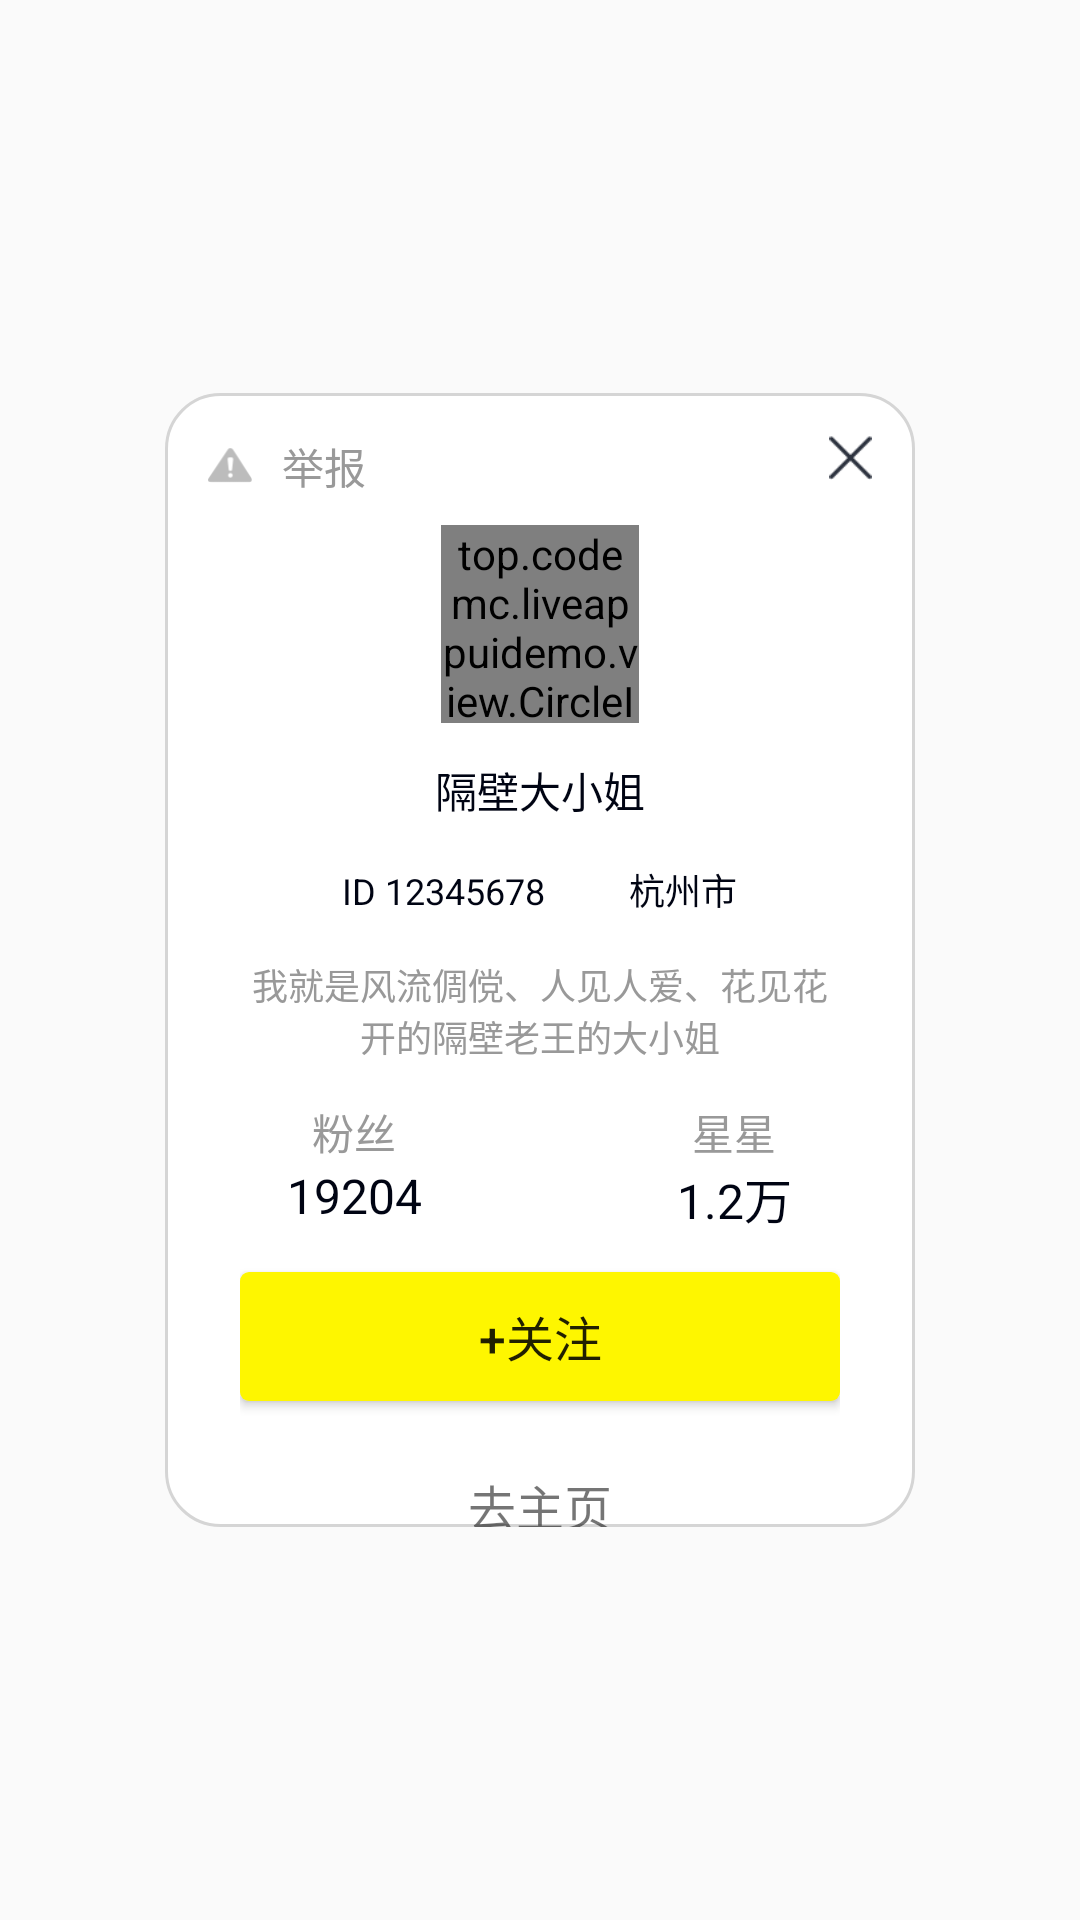

Where icons sit on this 1080px×1920px app screen, as (left=x1, top=y1, right=x2, bottom=y2):
box close nrm: (left=829, top=436, right=872, bottom=479)
